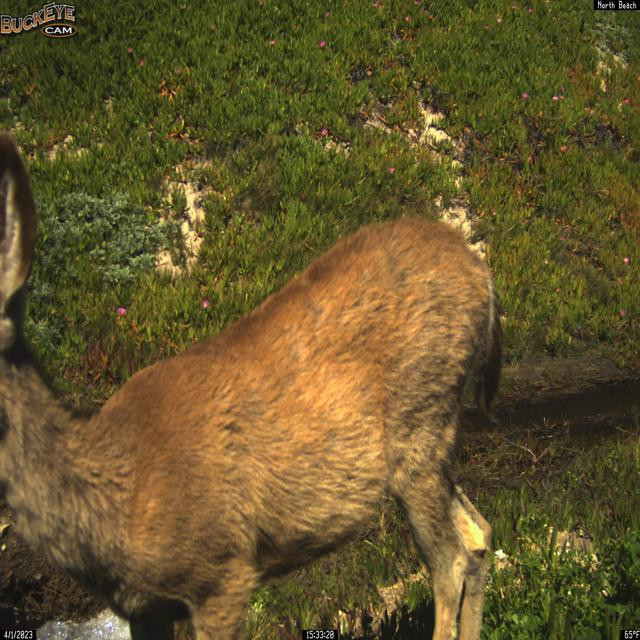deer: (0, 129, 504, 640)
